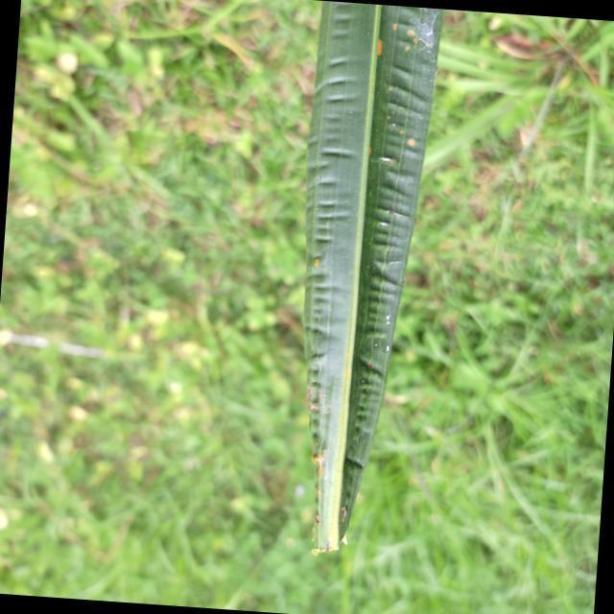Boron: (307, 0, 444, 556)
